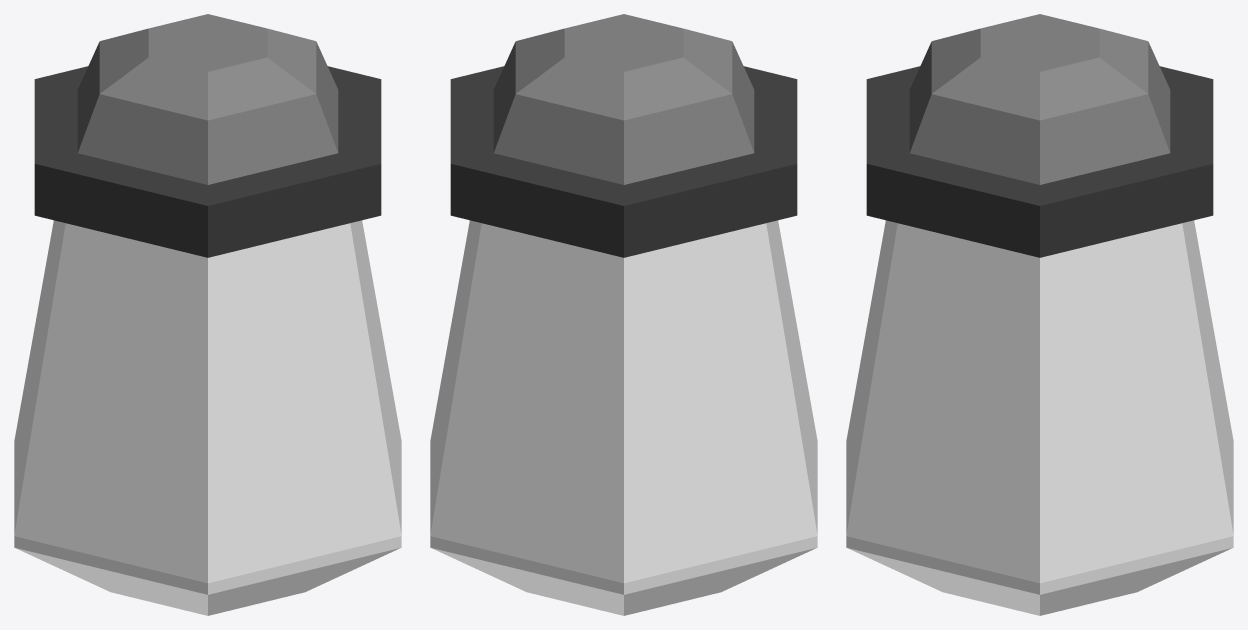
The model's file is suolasirotin.FBX.
3 views of the same model, side by side, from view 1: azimuth 30°, elevation 25°; view 2: azimuth 150°, elevation 25°; view 3: azimuth 270°, elevation 25° (orthographic).
Visible parts, largest first — view 1: suolasirotin; view 2: suolasirotin; view 3: suolasirotin.
Part boxes in pixels (x1,y1,x2,y2): suolasirotin: (14, 14, 401, 615); suolasirotin: (430, 14, 817, 615); suolasirotin: (846, 14, 1233, 615).
Size of the model in its own units: 10.89 by 14.12 by 9.44.
